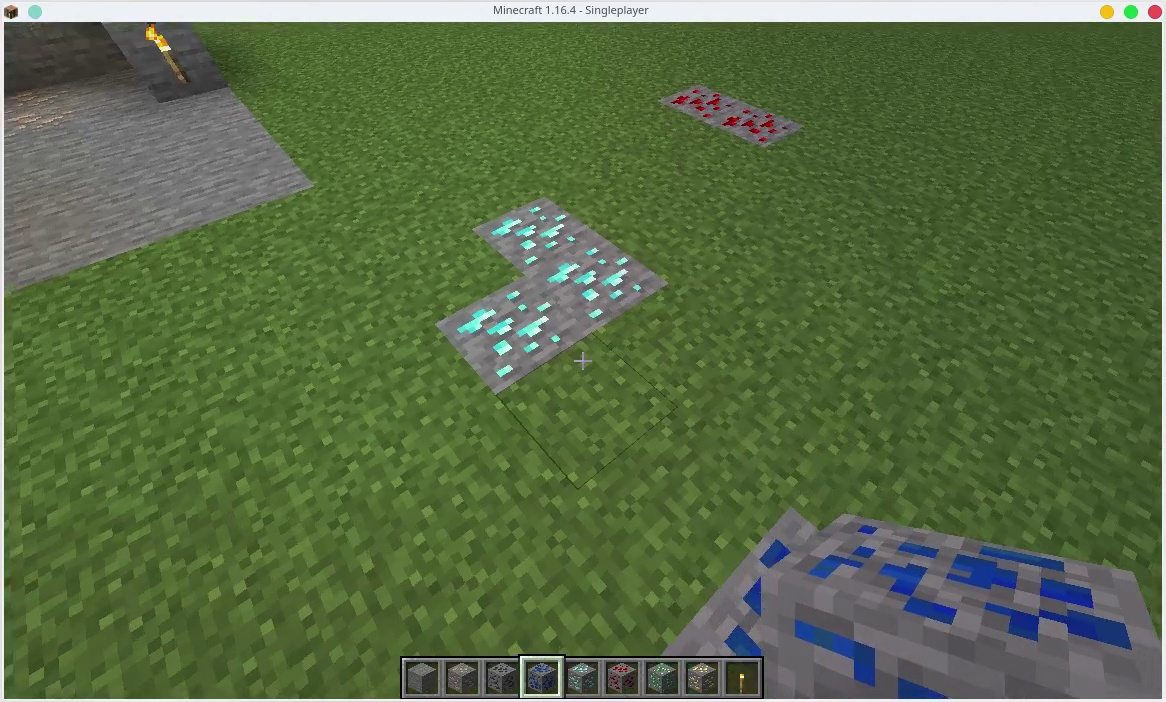gold: (686, 664, 721, 693)
